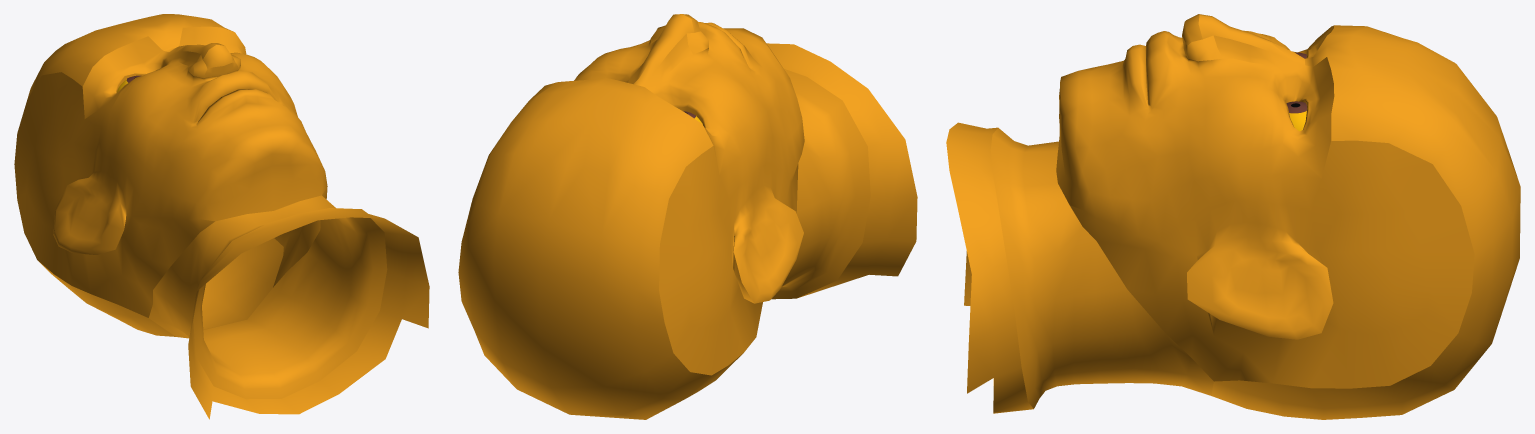
Rendered from dummy.gltf.
3 renders of one model, left to right at view 1: azimuth 30°, elevation 25°; view 2: azimuth 150°, elevation 25°; view 3: azimuth 270°, elevation 25°, orthographic. The views are drawn at different scales.
Parts seen in each view (by area): view 1: Body; view 2: Body; view 3: Body.
Part boxes in pixels (box(x1,y1,x2,y2)): Body: box(14, 14, 429, 419); Body: box(458, 14, 917, 419); Body: box(946, 14, 1520, 419).
Bounding box in the file's own units: 19.02 × 23.31 × 31.36.
